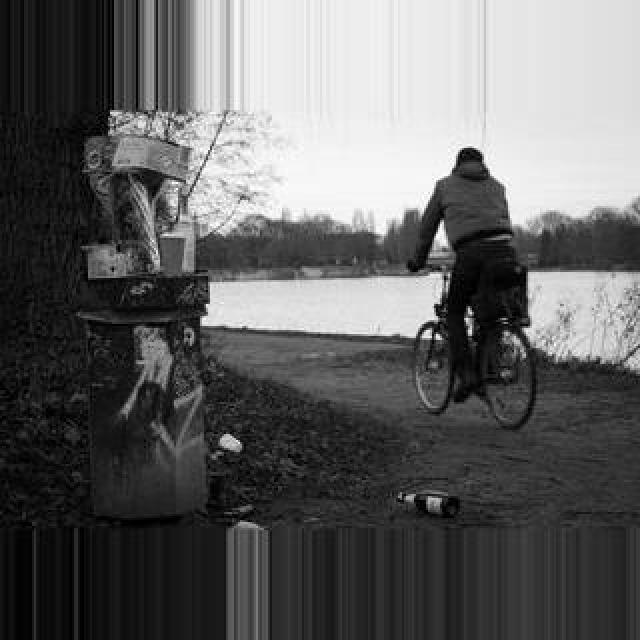MC-Bike: (406, 144, 530, 390)
Person: (409, 262, 535, 428)
